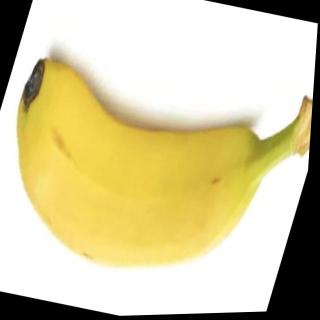banana: (0, 44, 286, 301)
